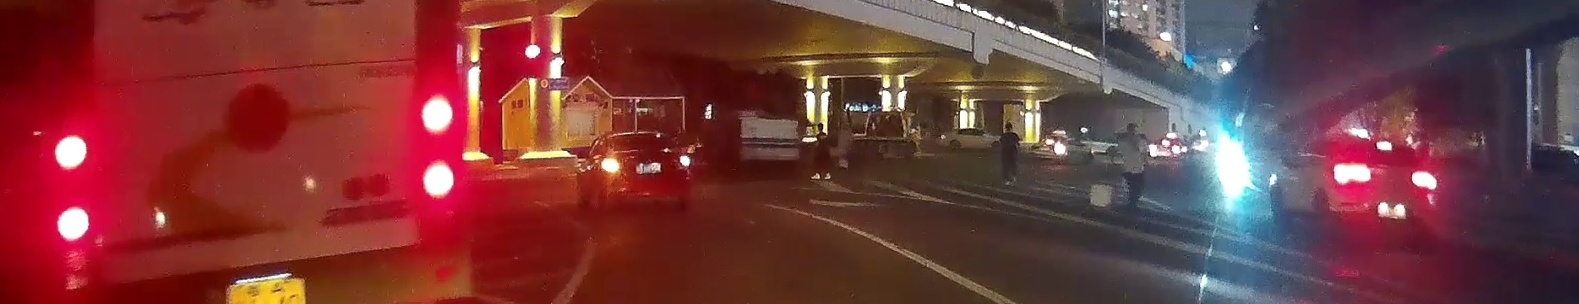L_light: (1333, 163, 1370, 182), (600, 158, 620, 172)
R_light: (1412, 170, 1437, 187), (676, 156, 691, 169)
T_light: (1376, 143, 1393, 150), (635, 136, 652, 140)
night-brake: (1324, 135, 1439, 233)
night-left: (595, 131, 694, 214)
